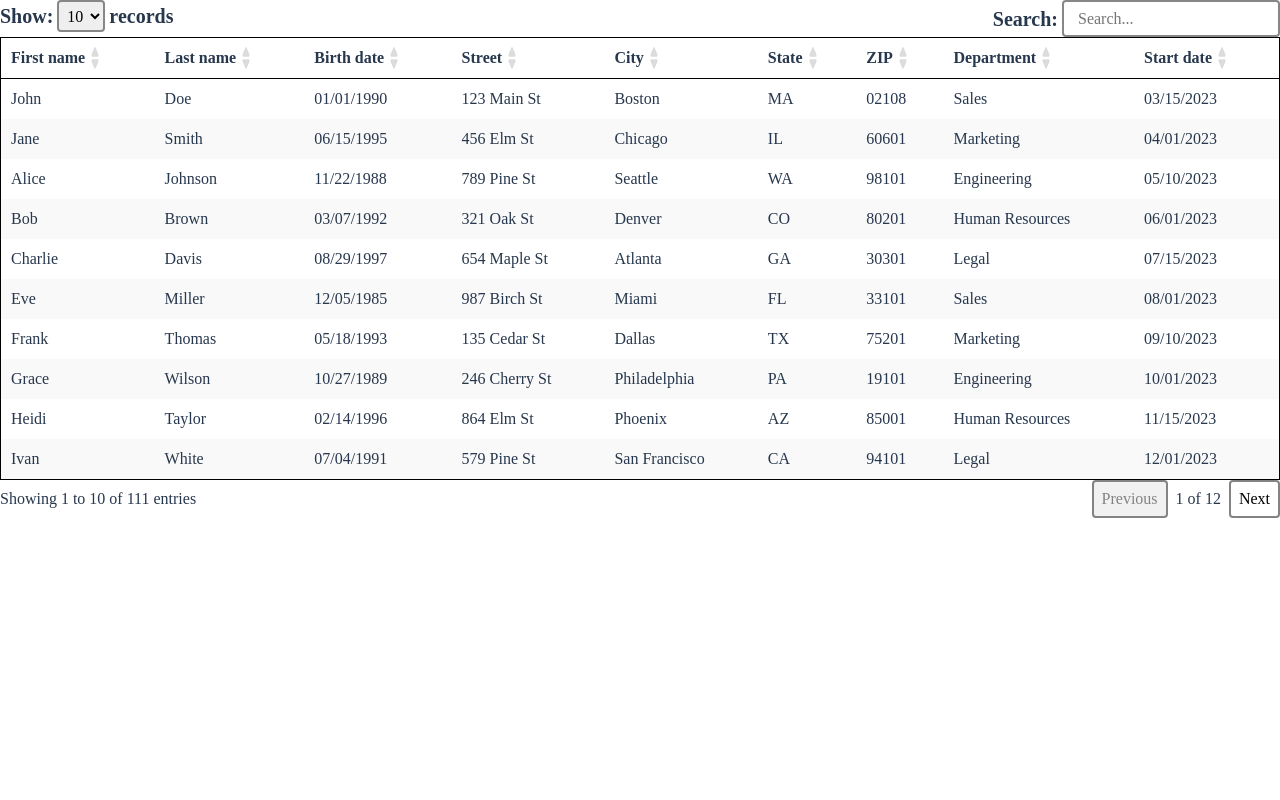
Test case: Given I'm on employees page › When I change the number of records to display per page to 25, it should display 25 records
# Change the number of rows per page to 25
Step 1. Select "25" in the dropdown → coordinates (81, 16), box [57,0,105,32]
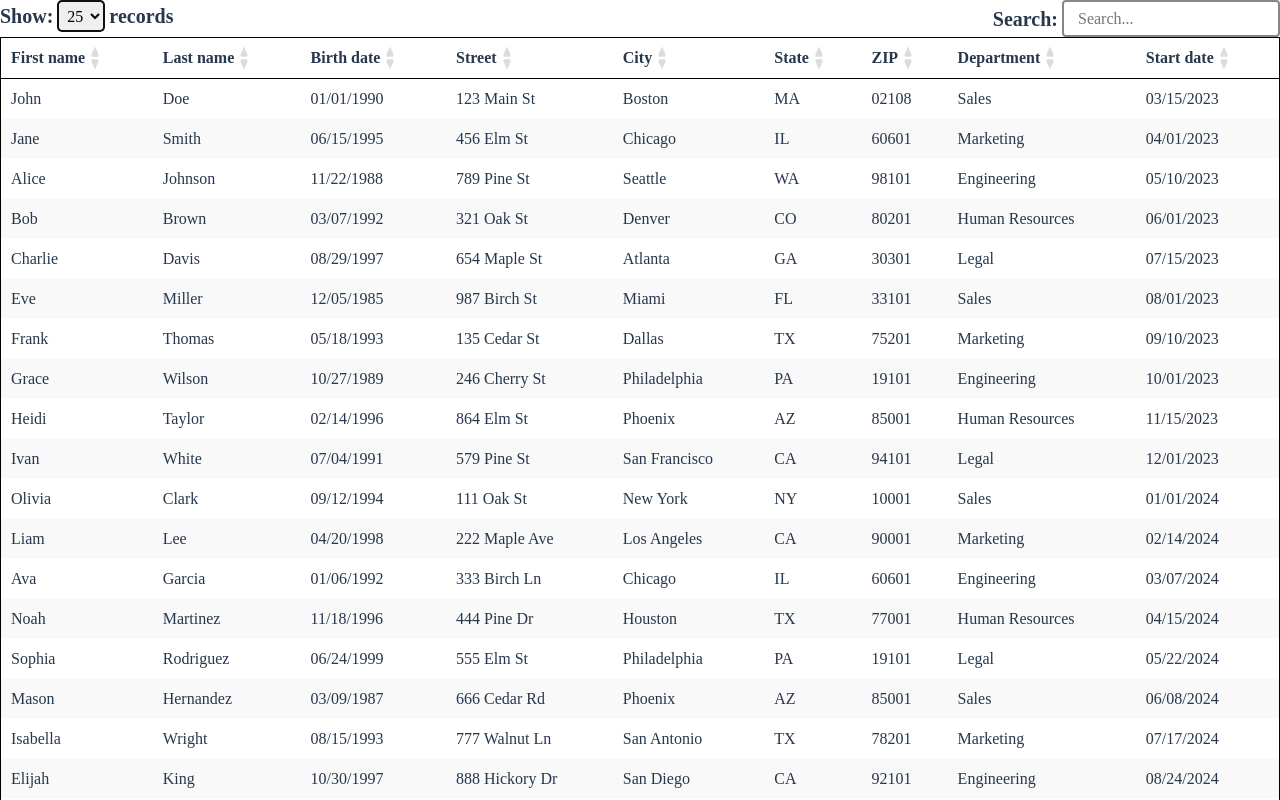
Now the number of rows is 26
